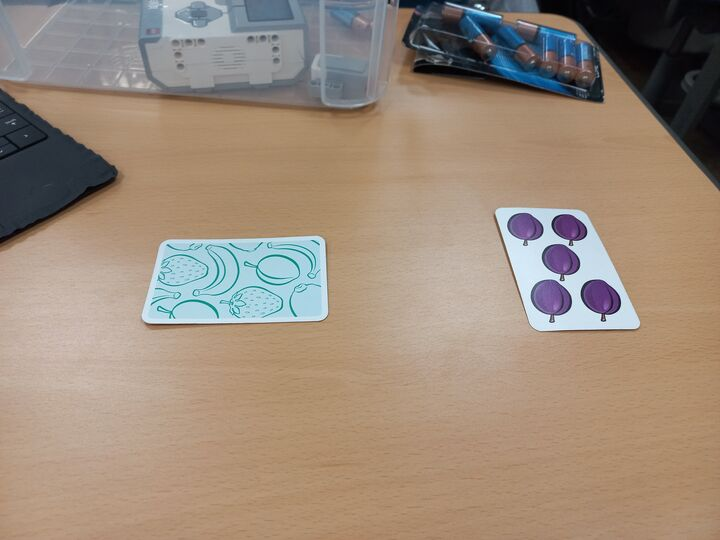plum5: (492, 203, 643, 333)
